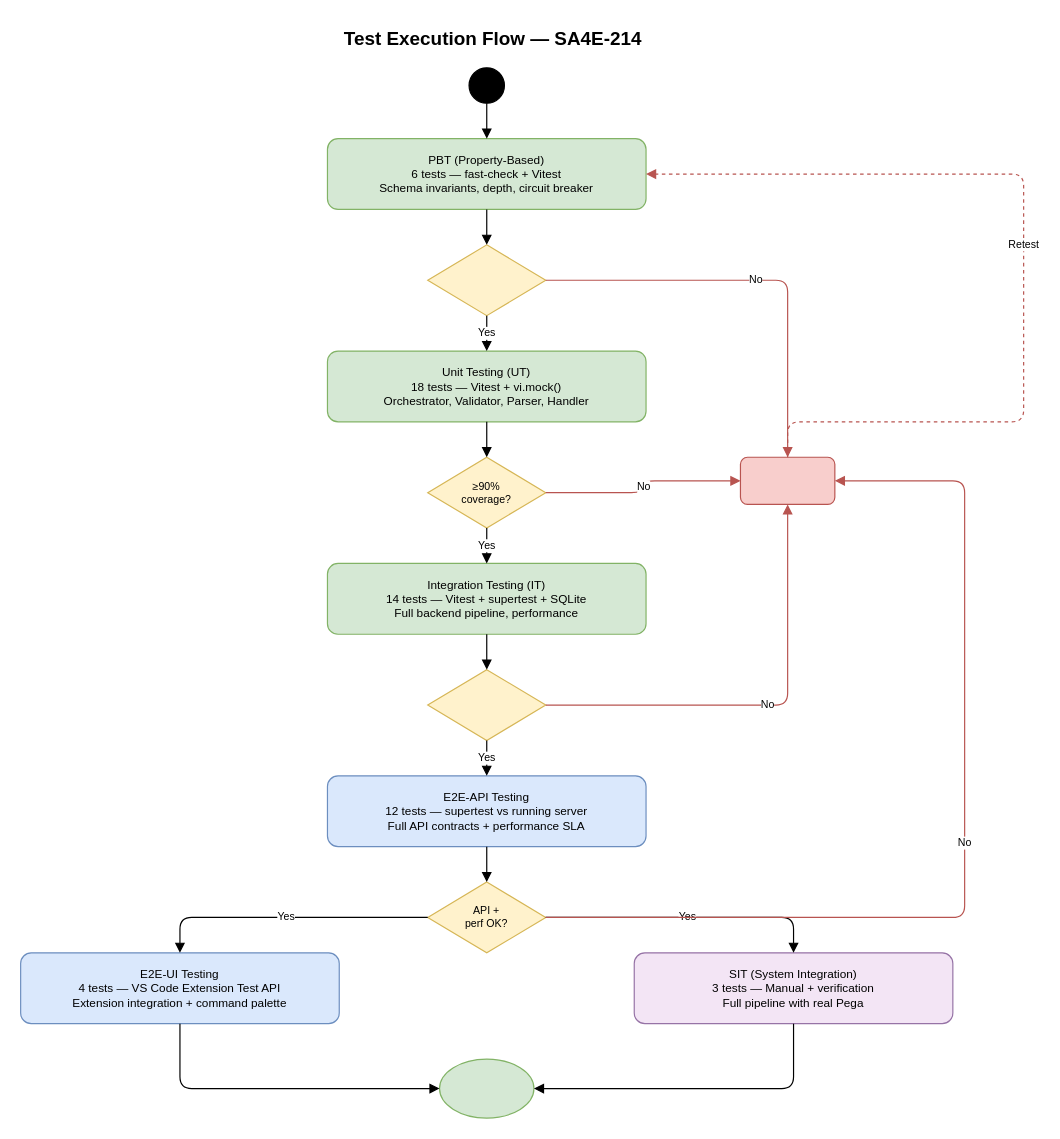
Image size: 1060x1139. Some labels were removed from this diagram. Each missing label, with the box of its shape:
All IT pass?: (427, 668, 546, 740)
All PBT pass?: (427, 244, 546, 316)
Fix & Retest: (739, 456, 835, 504)
✅ Test Complete: (438, 1058, 534, 1118)
